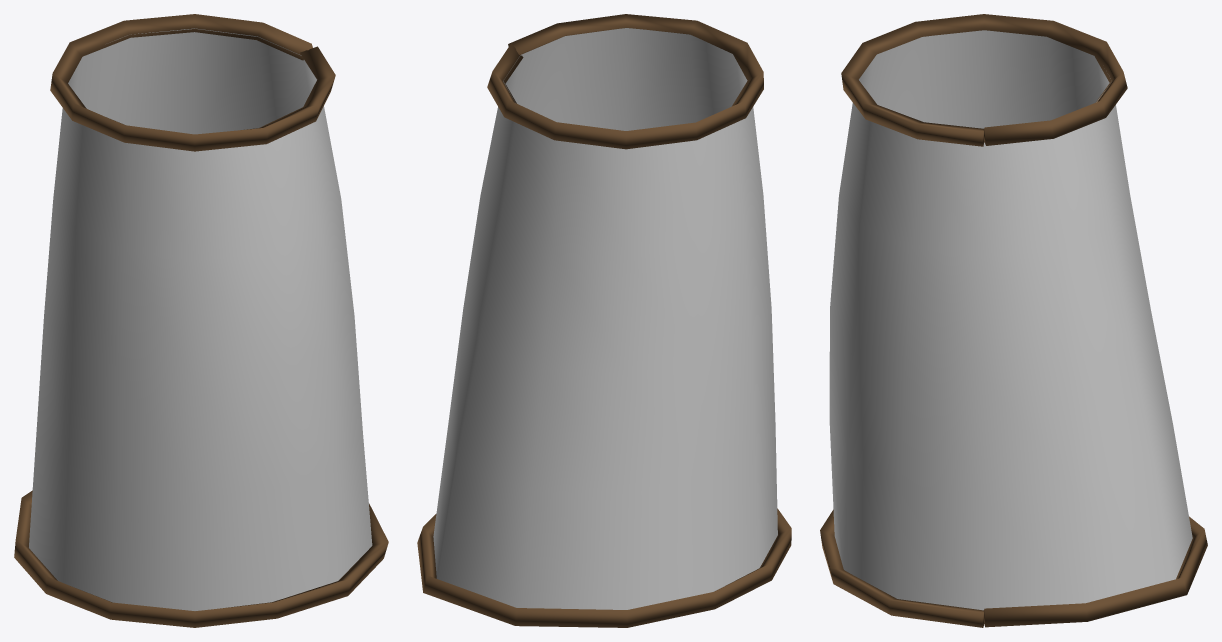
Rendered from timber_armor_cuisse.L.glb.
The picture shows the model from 3 angles, left to right: view 1: azimuth 30°, elevation 25°; view 2: azimuth 150°, elevation 25°; view 3: azimuth 270°, elevation 25°; orthographic projection. The views are drawn at different scales.
Visible parts, largest first — view 1: timber_armor_cuisse.L; view 2: timber_armor_cuisse.L; view 3: timber_armor_cuisse.L.
Boxes of the visible parts, <box> form: timber_armor_cuisse.L: <box>14,14,388,627</box>; timber_armor_cuisse.L: <box>417,14,791,627</box>; timber_armor_cuisse.L: <box>820,14,1207,627</box>.
Size of the model in its own units: 0.2667 by 0.3856 by 0.2845.
